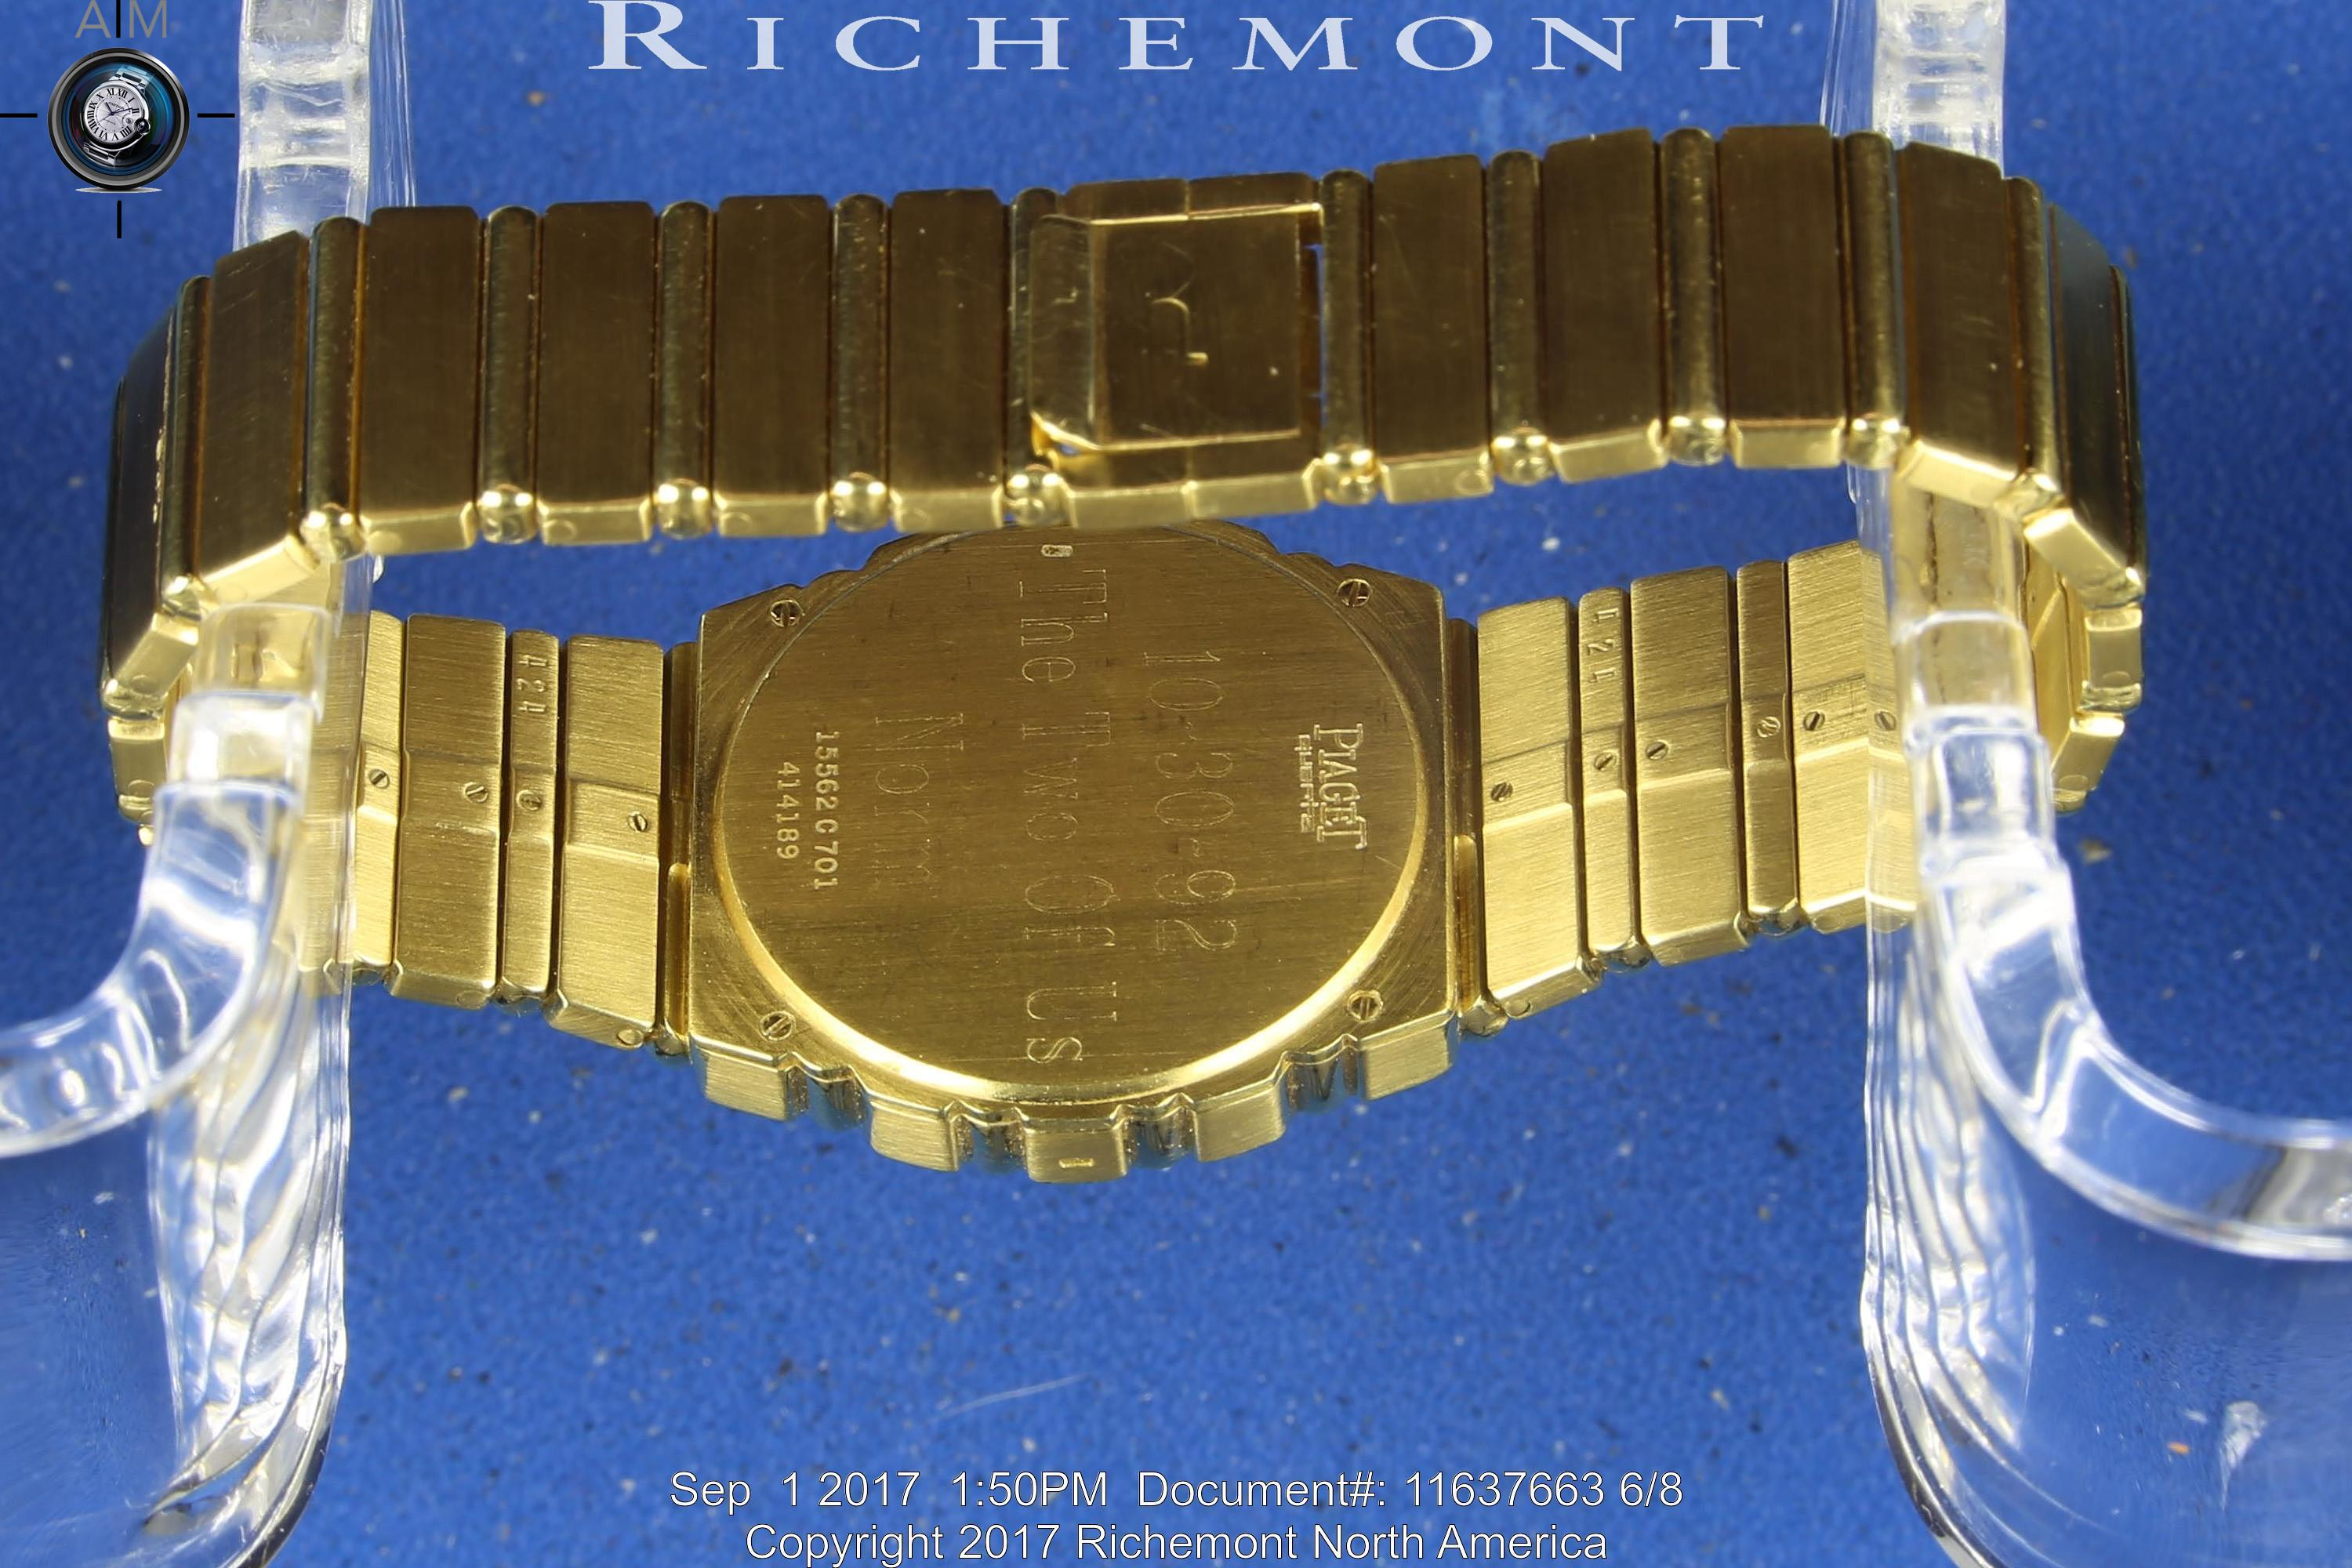Watch BackCase: (695, 544, 1468, 1204)
